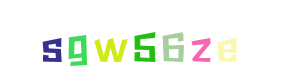5: (103, 0, 183, 80)
6: (108, 0, 188, 80)
E: (161, 0, 241, 80)
G: (70, 0, 150, 80)
S: (12, 0, 92, 80)
W: (71, 0, 151, 80)
Z: (151, 0, 231, 80)
